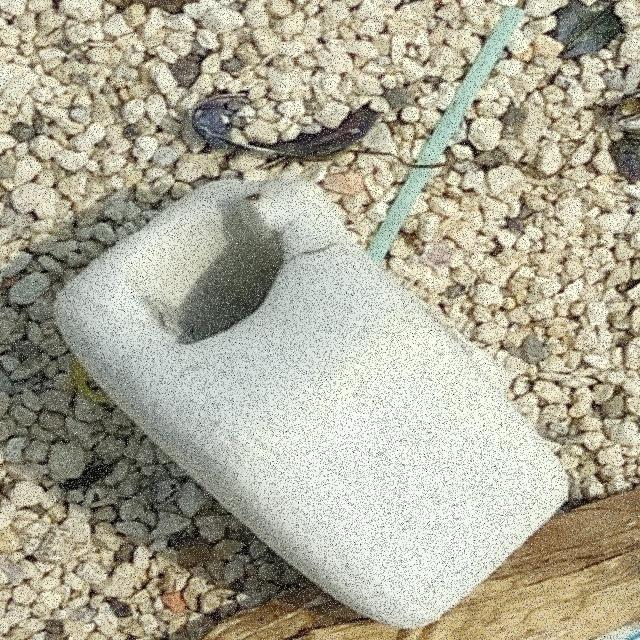styrofoam_waste: (49, 177, 575, 634)
